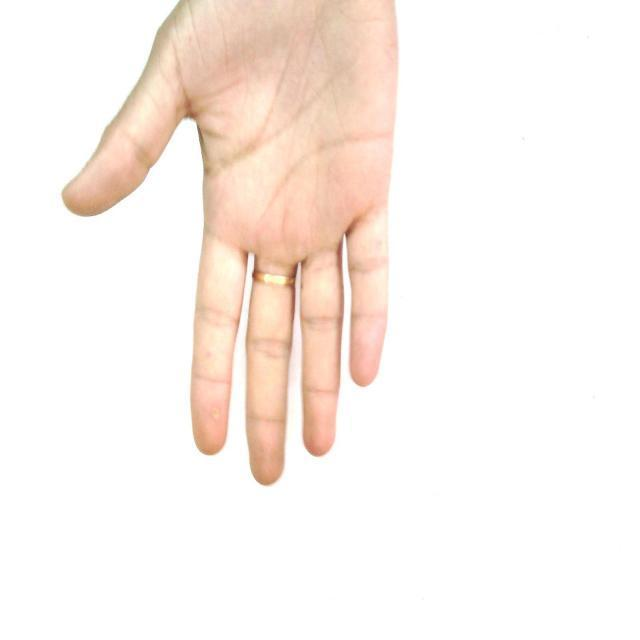hand: (61, 0, 400, 486)
